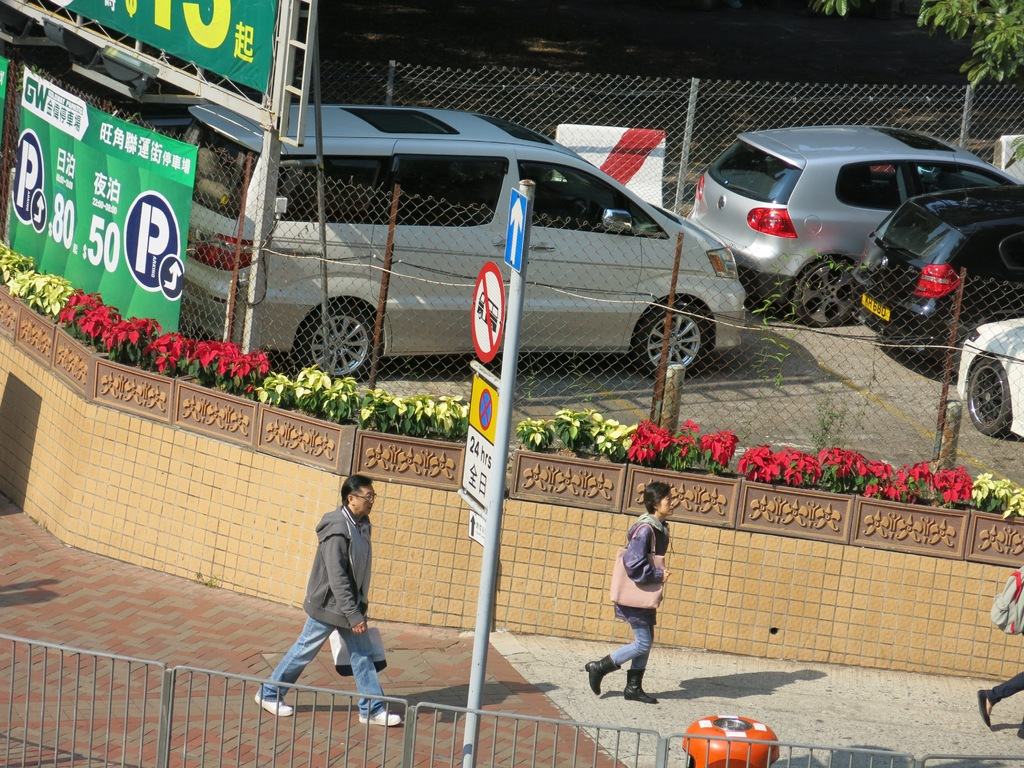Footwear: (623, 669, 660, 707), (585, 659, 620, 698), (253, 691, 295, 717), (976, 689, 997, 733), (356, 709, 402, 724), (1016, 725, 1023, 740)
